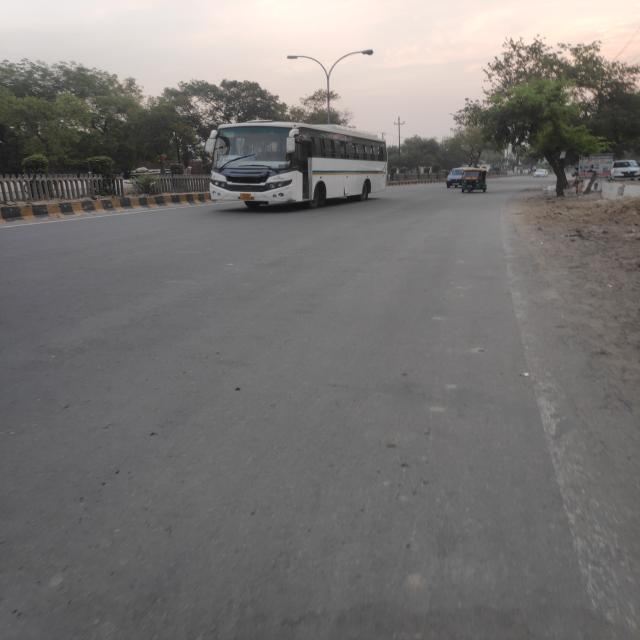Auto: (462, 168, 487, 192)
Bus: (207, 120, 387, 208)
Car: (447, 166, 475, 188), (610, 160, 640, 179), (533, 169, 548, 178)
